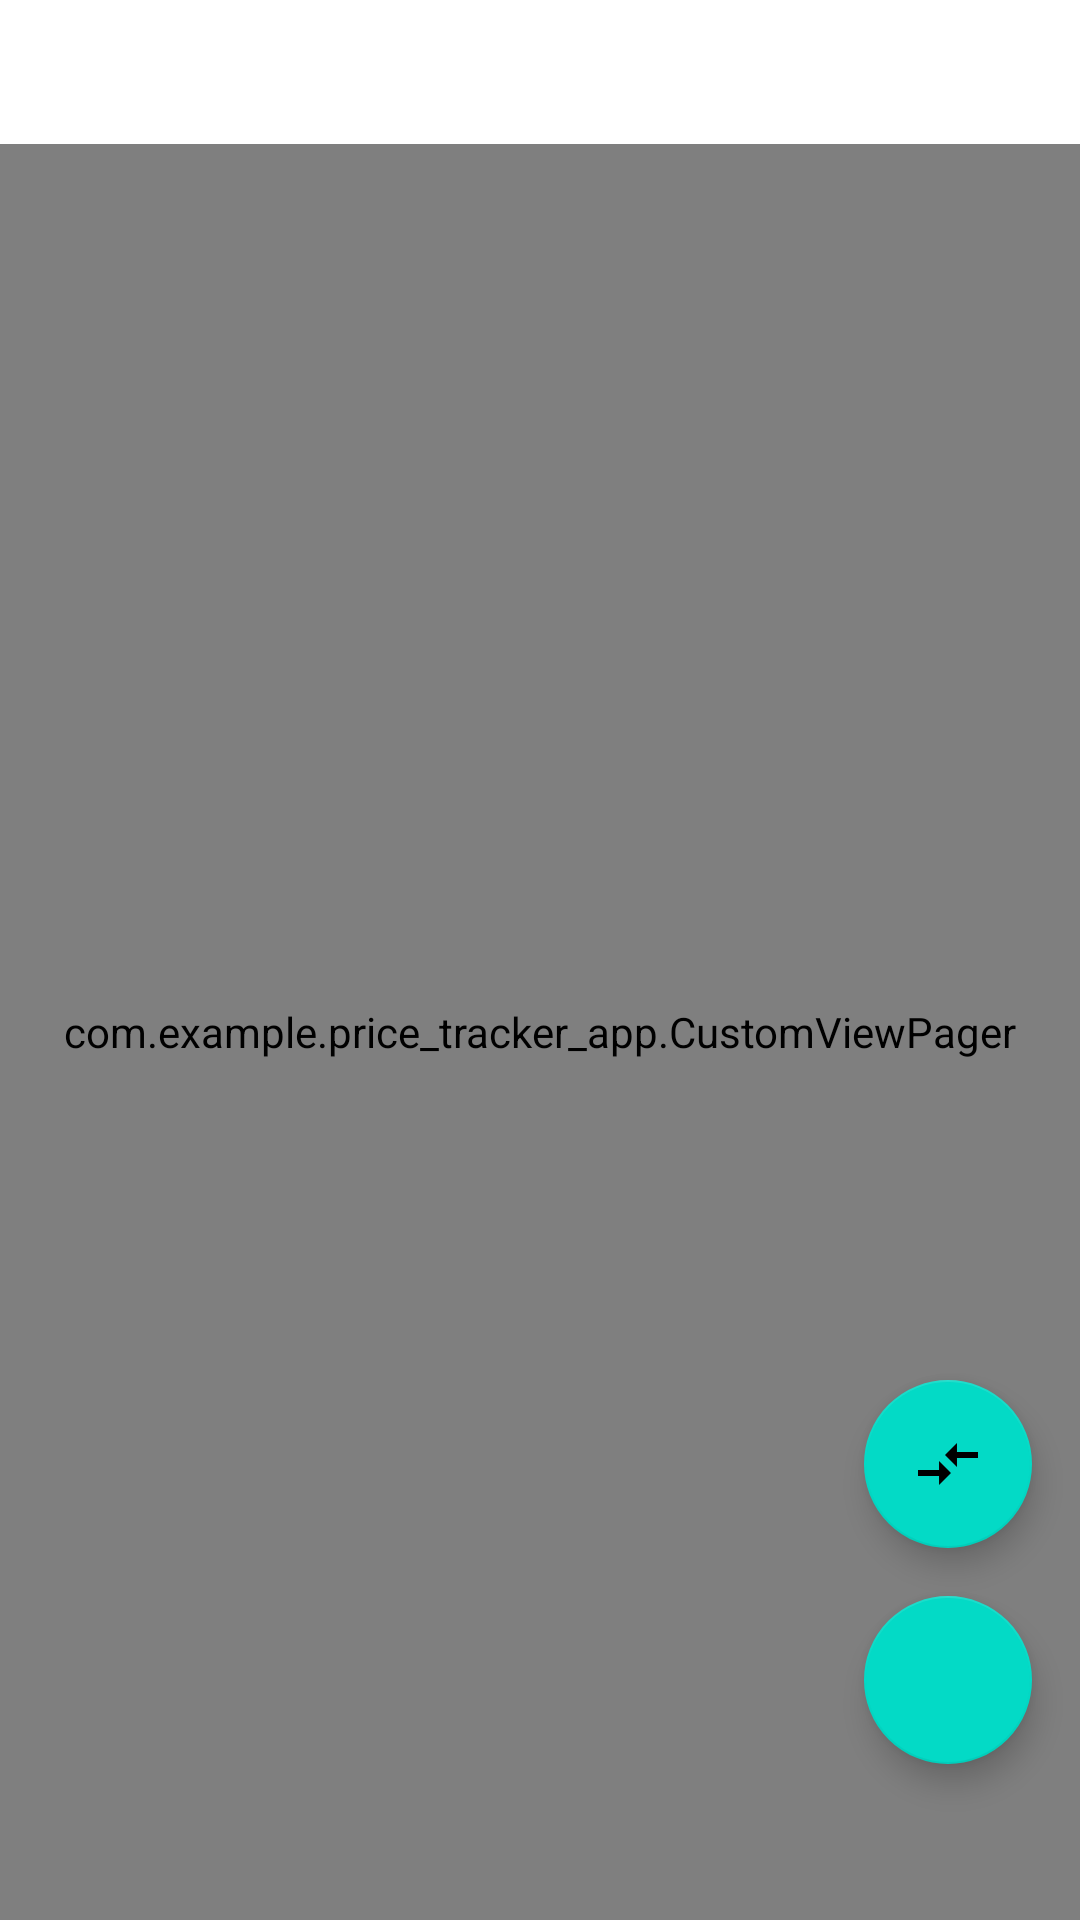

Named icons in this screenshot (1080px x 1920px) and their centers, (x=x, y=y):
compare arrows: (x=948, y=1464)
